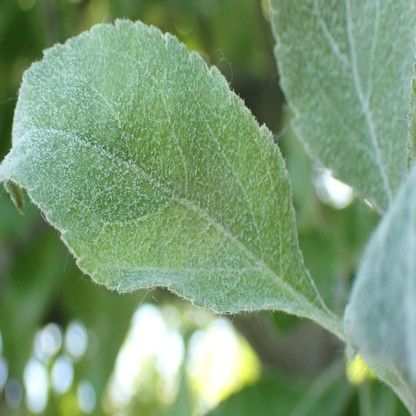powder: (2, 17, 311, 312), (270, 1, 415, 214), (344, 165, 416, 395)
